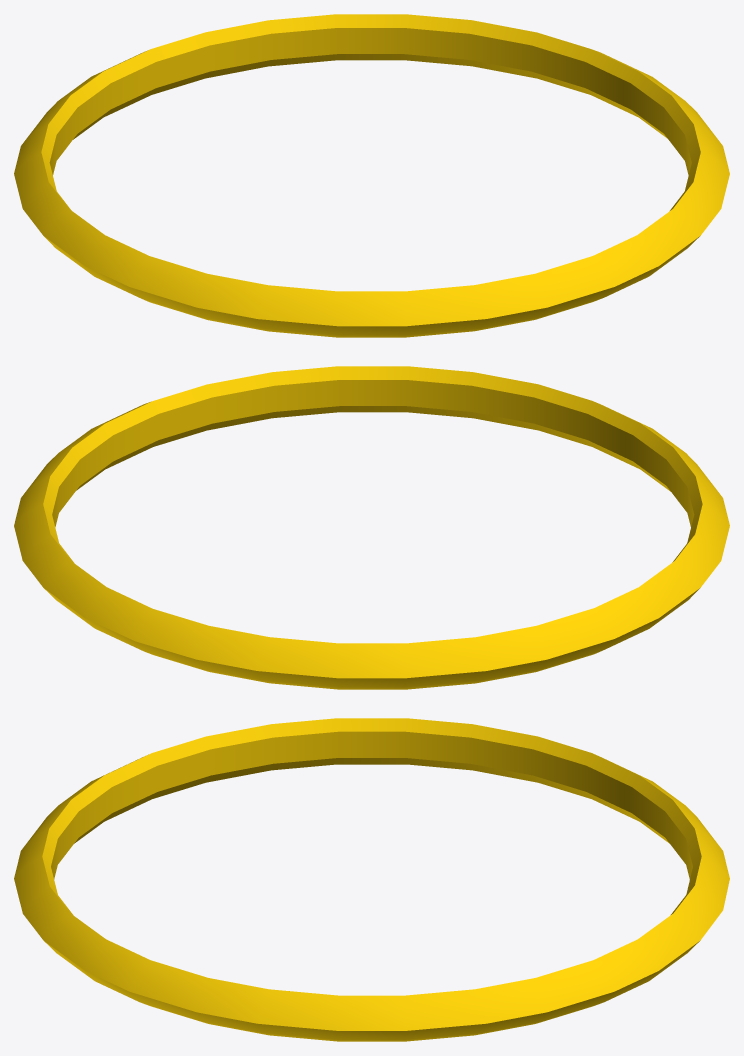
File: huanquan.fbx
3 renders of one model, top to bottom at view 1: azimuth 30°, elevation 25°; view 2: azimuth 150°, elevation 25°; view 3: azimuth 270°, elevation 25°, orthographic.
Parts seen in each view (by area): view 1: pTorus3; view 2: pTorus3; view 3: pTorus3.
Boxes of the visible parts, box(x1,y1,x2,y2) form: pTorus3: box(14, 14, 729, 337); pTorus3: box(14, 366, 729, 689); pTorus3: box(14, 718, 729, 1041).
Size of the model in its own units: 26.94 by 1.93 by 27.1.
